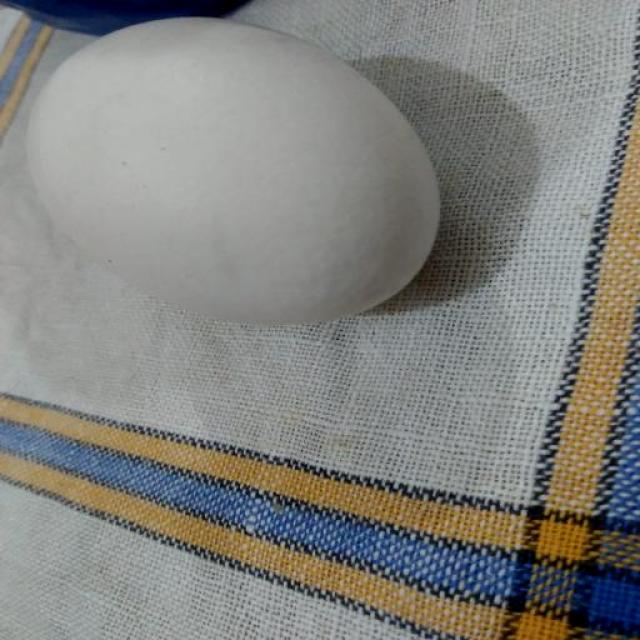telur: (30, 20, 438, 323)
